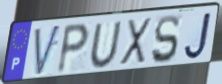J: (182, 10, 214, 62)
P: (55, 22, 92, 76)
S: (150, 14, 181, 66)
U: (88, 20, 124, 70)
V: (33, 22, 63, 78)
X: (118, 16, 153, 67)
